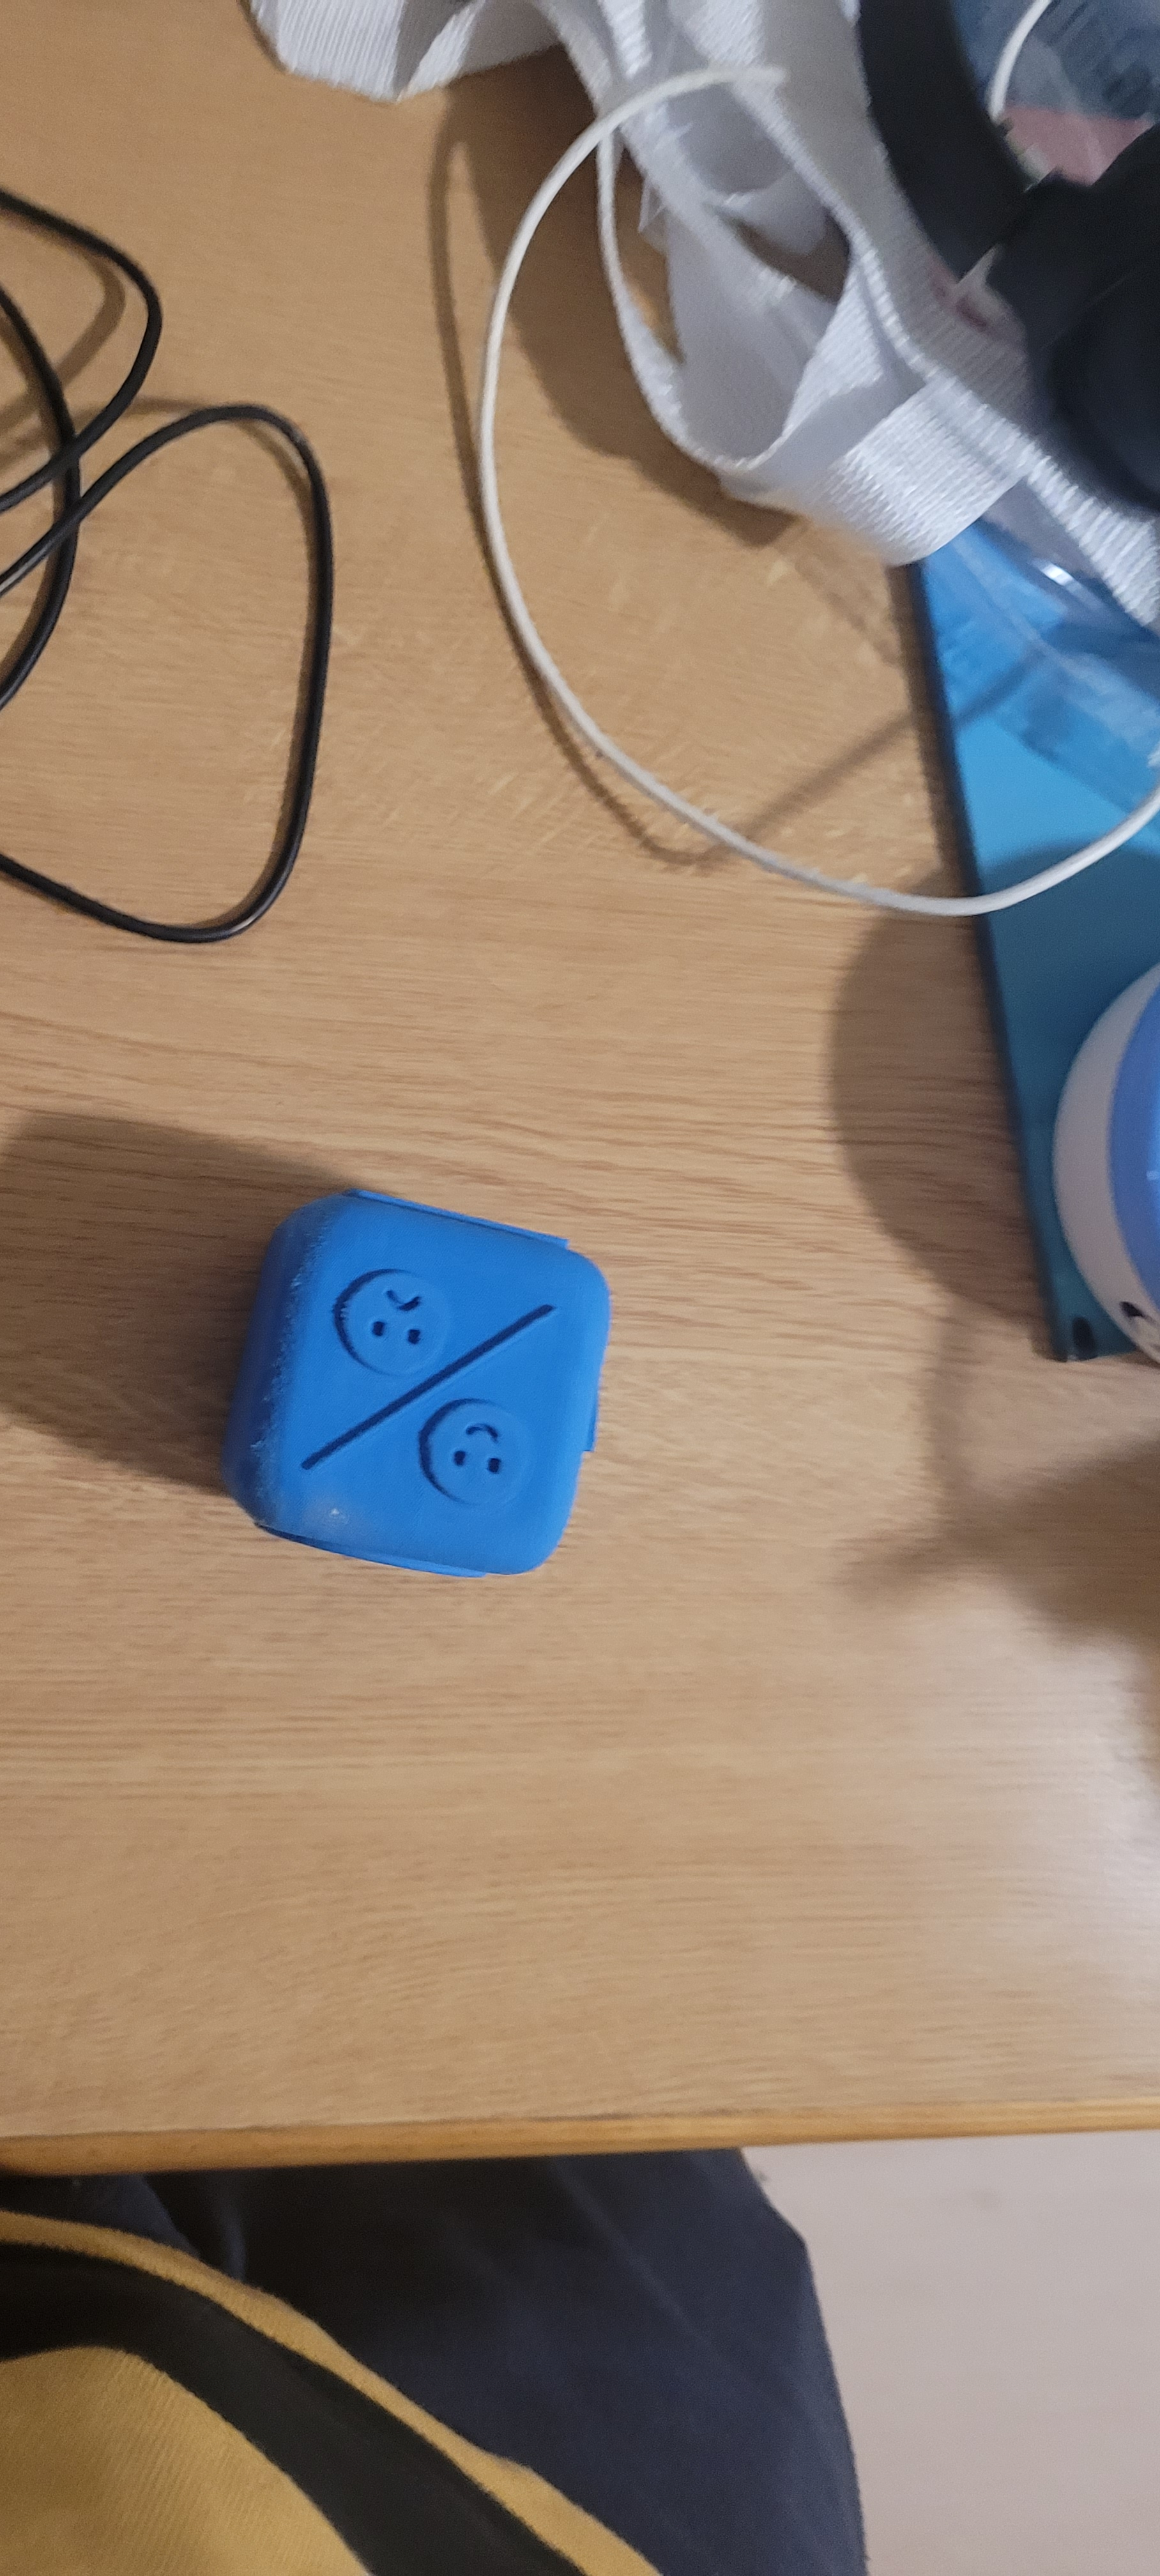Like/Dislike: (268, 1258, 608, 1543)
